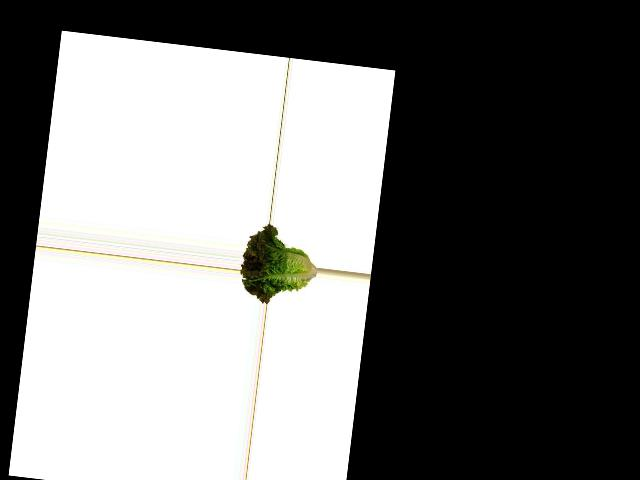lettuce: (237, 221, 322, 308)
